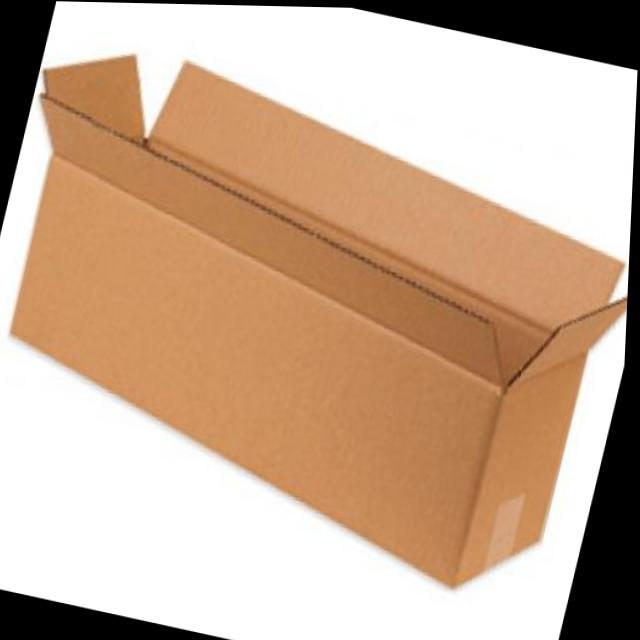box: (0, 4, 640, 619)
